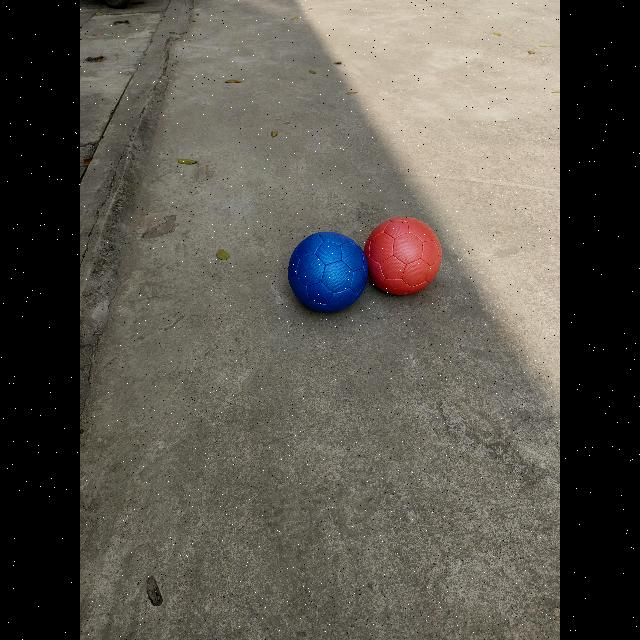B: (289, 231, 369, 312)
R: (364, 217, 442, 295)
